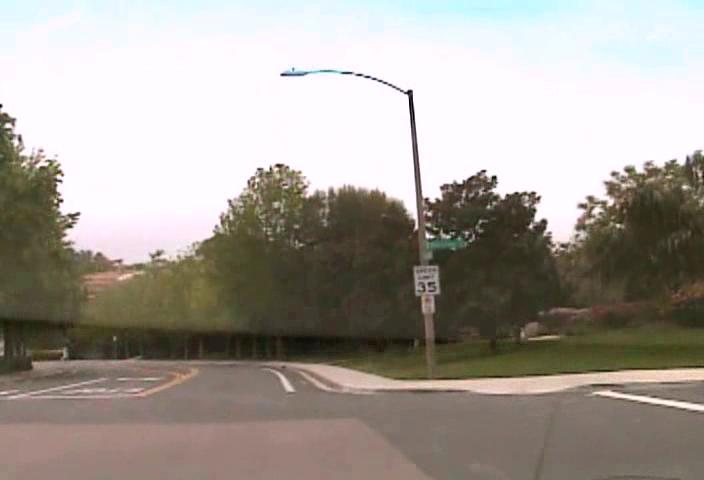speedLimit35: (413, 264, 440, 296)
